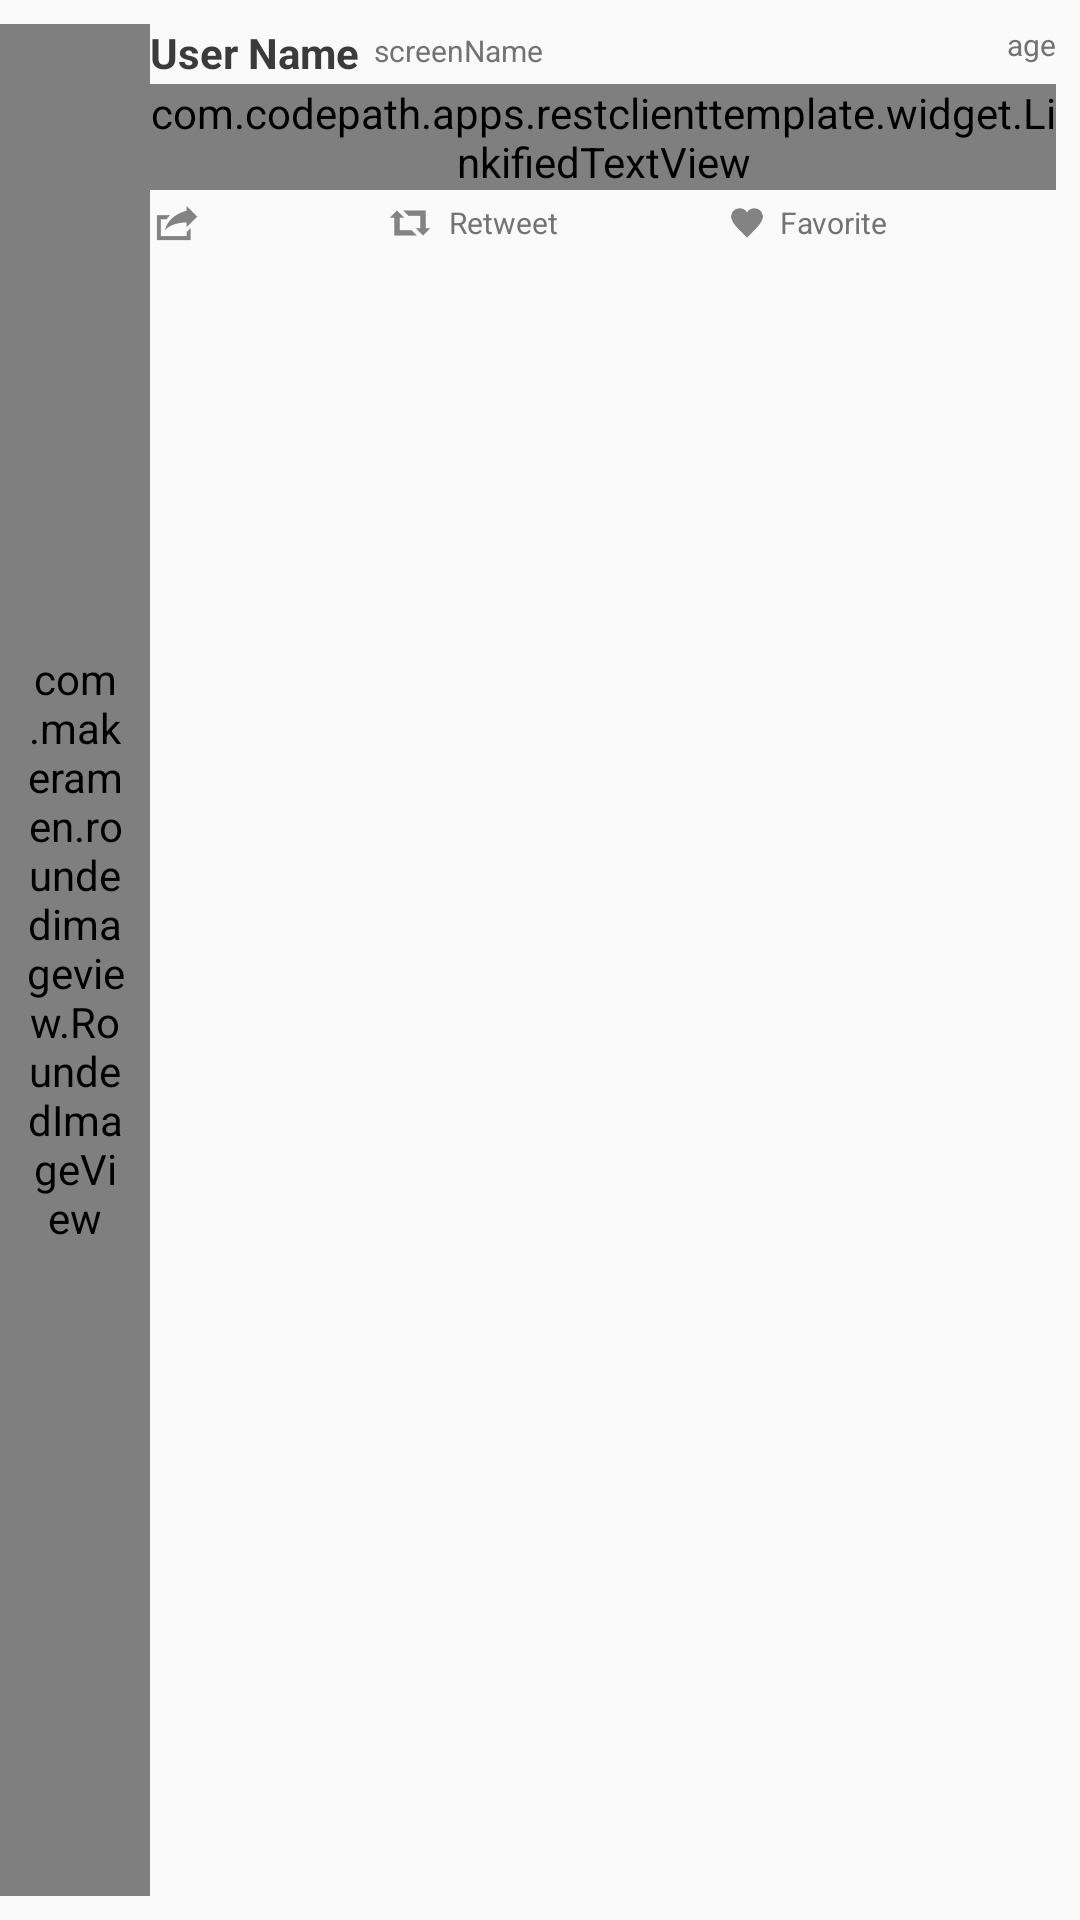

Icons on this 1080px×1920px Android screen, each with its box as (x1, y1, x2, y2):
share: (157, 206, 197, 240)
